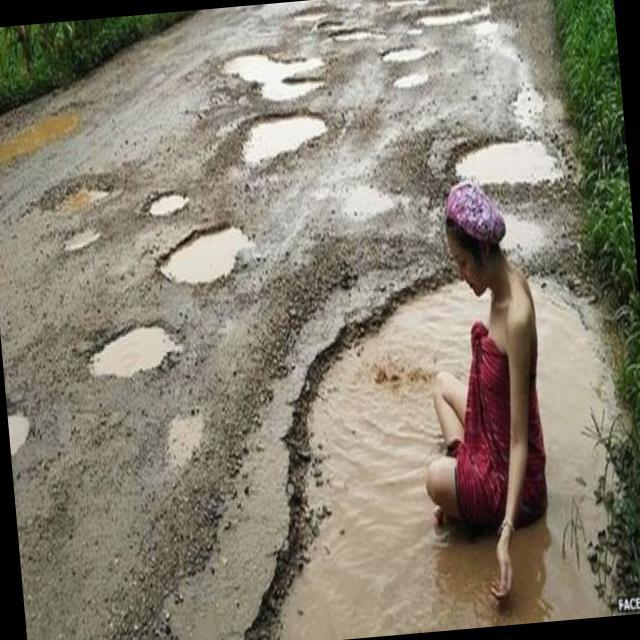Pothole: (207, 233, 640, 640), (143, 208, 300, 332), (67, 304, 211, 394), (443, 121, 578, 196), (215, 38, 332, 112), (222, 103, 344, 167), (36, 160, 129, 214), (5, 390, 41, 477), (50, 217, 110, 257), (416, 5, 493, 31), (143, 182, 190, 220), (385, 66, 439, 99), (326, 23, 396, 47), (377, 41, 448, 63), (310, 17, 360, 31)
